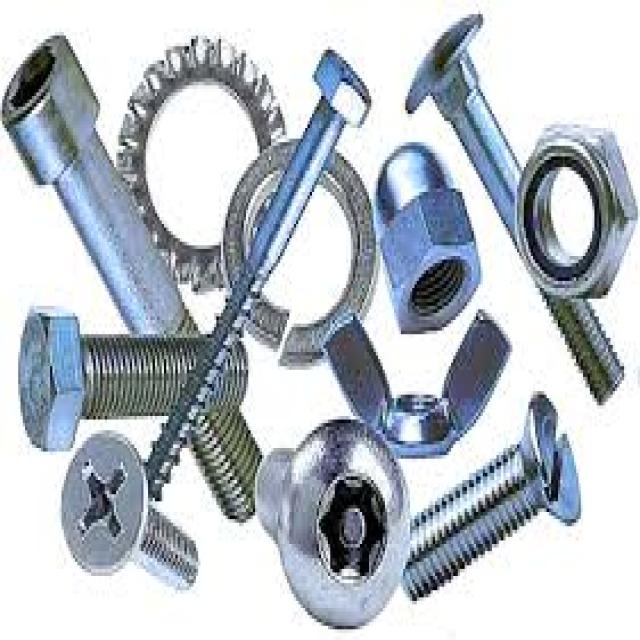metal: (0, 29, 264, 523), (143, 43, 369, 498), (403, 11, 622, 405), (114, 32, 285, 288), (401, 387, 578, 601), (7, 299, 248, 448), (250, 416, 410, 629), (221, 142, 373, 363), (321, 309, 513, 455), (59, 427, 198, 590), (510, 121, 636, 295), (376, 139, 478, 331)
